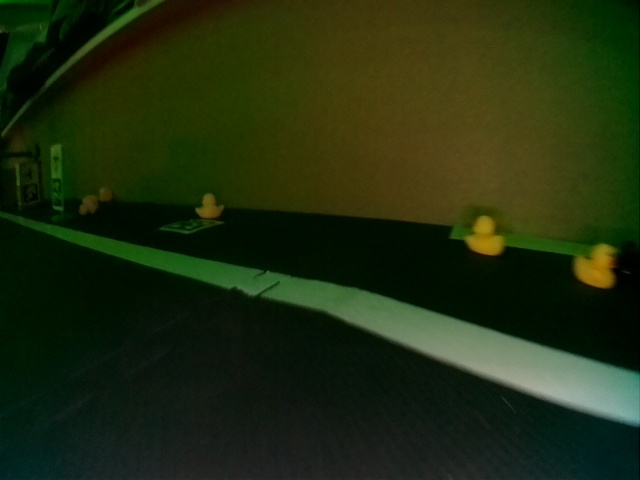Duckie: (573, 243, 618, 288), (464, 217, 504, 256), (196, 192, 224, 218), (79, 195, 98, 215), (98, 187, 111, 200)
Intersection sign: (20, 163, 39, 182)
QR code: (160, 220, 223, 234), (51, 179, 64, 211), (21, 184, 39, 204)
